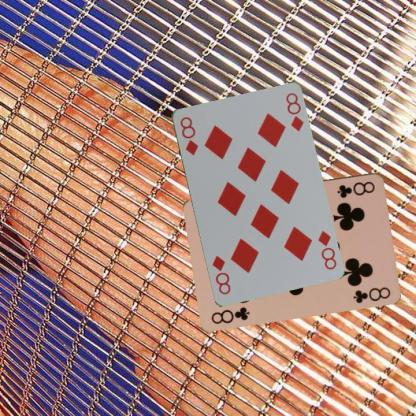8c: (335, 178, 376, 200), (208, 304, 250, 325)
8d: (315, 228, 337, 271), (177, 114, 199, 156)
